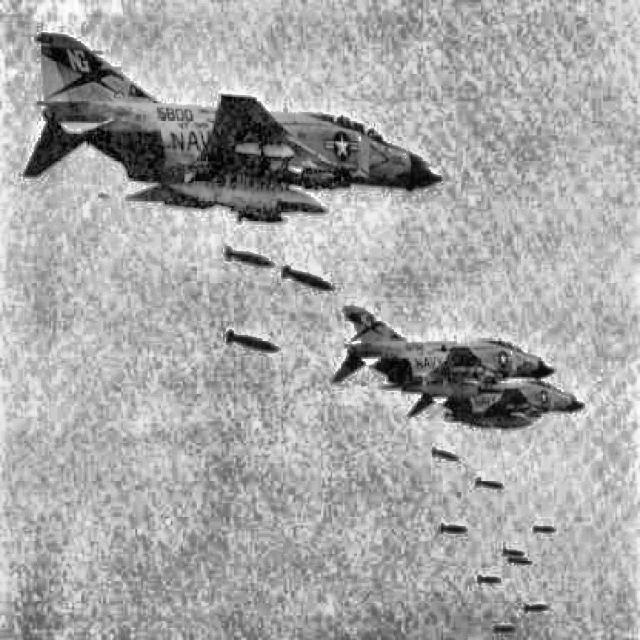F4: (22, 33, 442, 215), (331, 305, 555, 398), (406, 379, 585, 430)
